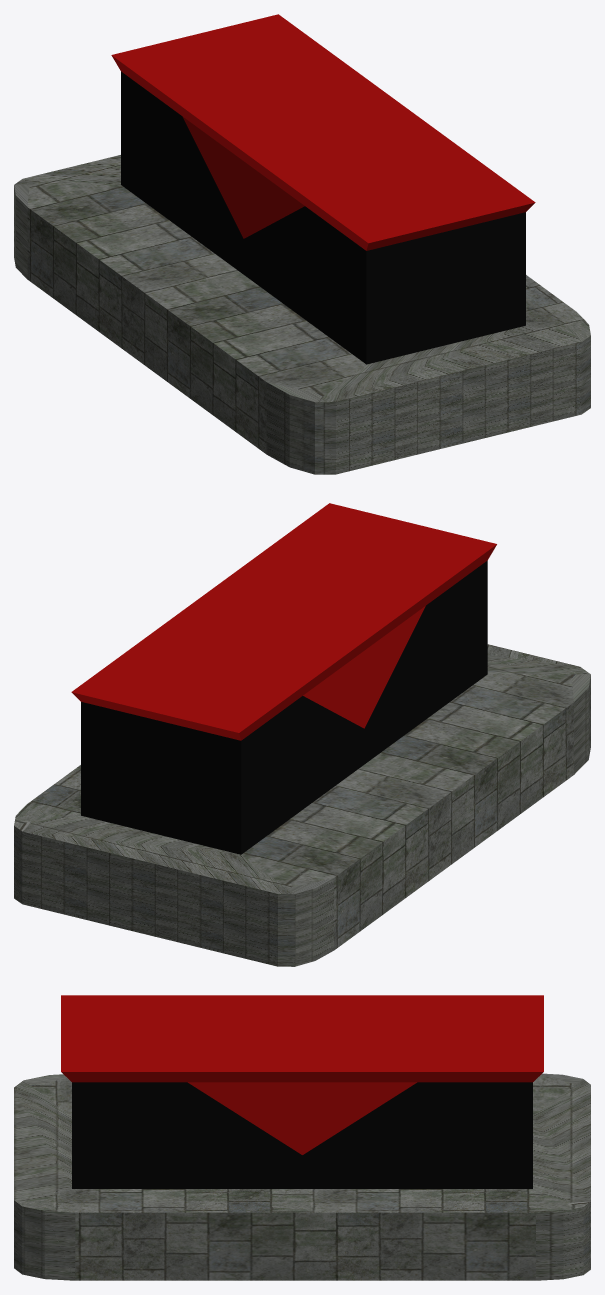
File: autel.fbx
3 views of the same model, one above another, from view 1: azimuth 30°, elevation 25°; view 2: azimuth 150°, elevation 25°; view 3: azimuth 270°, elevation 25° (orthographic). The views are drawn at different scales.
Visible parts, largest first — view 1: Cube; view 2: Cube; view 3: Cube.
Part boxes in pixels (bbox=[...]): Cube: bbox=[14, 14, 590, 474]; Cube: bbox=[14, 503, 590, 966]; Cube: bbox=[14, 995, 590, 1280].
Bounding box in the file's own units: 8.8 × 15.37 × 5.49.
3 materials, 1 textured.
